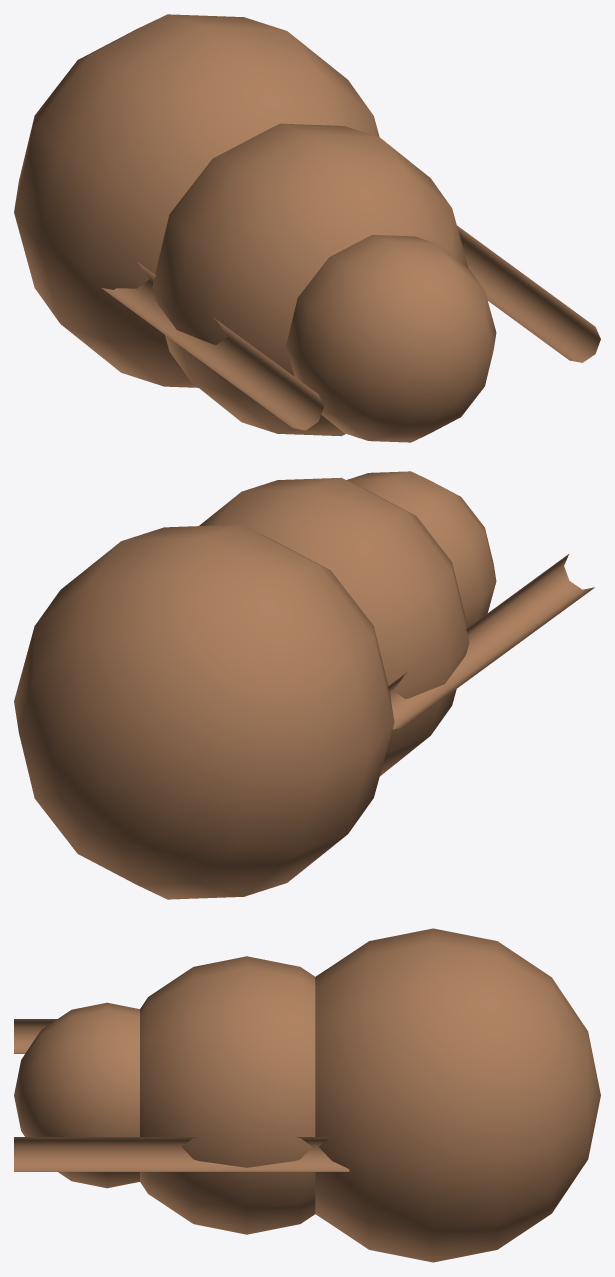
3 renders of one model, top to bottom at view 1: azimuth 30°, elevation 25°; view 2: azimuth 150°, elevation 25°; view 3: azimuth 270°, elevation 25°, orthographic. The views are drawn at different scales.
Visible parts, largest first — view 1: Huntsman Spider; view 2: Huntsman Spider; view 3: Huntsman Spider.
Boxes of the visible parts, <box> form: Huntsman Spider: <box>14,14,600,442</box>; Huntsman Spider: <box>14,471,594,899</box>; Huntsman Spider: <box>14,928,600,1262</box>.
Size of the model in its own units: 0.396 by 0.396 by 0.693.
